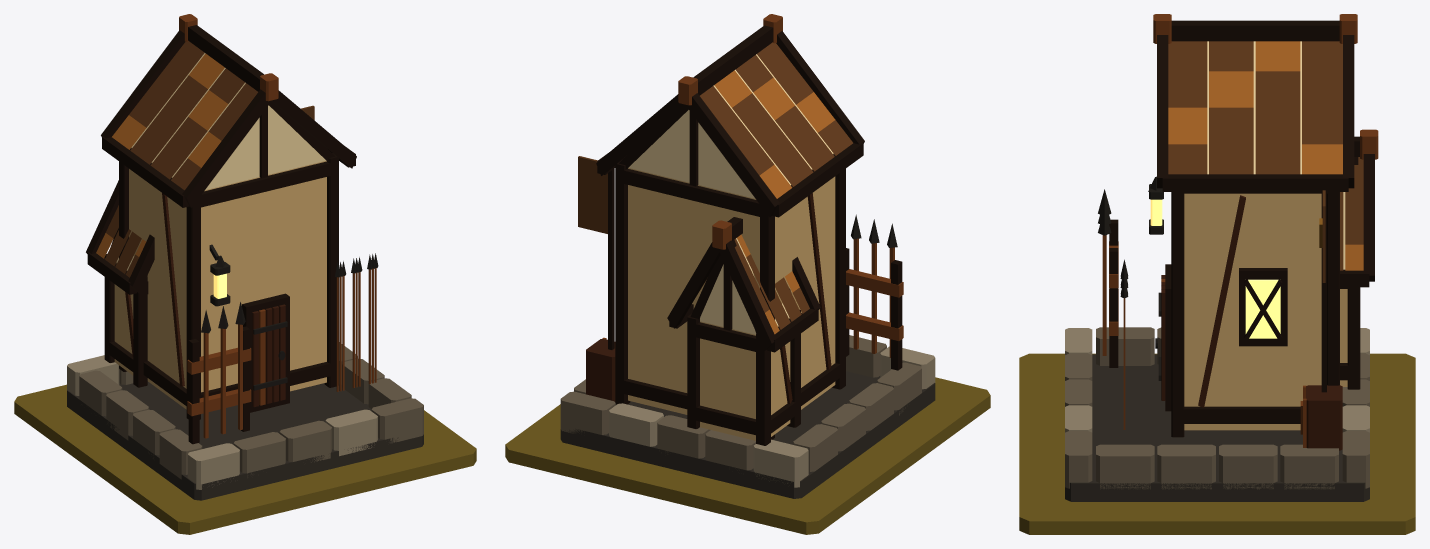
File: fletcher_t6.glb
3 views of the same model, side by side, from view 1: azimuth 30°, elevation 25°; view 2: azimuth 150°, elevation 25°; view 3: azimuth 270°, elevation 25° (orthographic). The views are drawn at different scales.
Parts seen in each view (by area): view 1: MMR | fletcher | T06 Architecture.001, MMR | fletcher | Tier 06 Ground.001; view 2: MMR | fletcher | T06 Architecture.001, MMR | fletcher | Tier 06 Ground.001, MMR | fletcher | T06 Banner Flag 1.001; view 3: MMR | fletcher | T06 Architecture.001, MMR | fletcher | Tier 06 Ground.001.
Boxes of the visible parts, x1=… form: MMR | fletcher | T06 Architecture.001: x1=67, y1=14, x2=423, y2=500; MMR | fletcher | Tier 06 Ground.001: x1=14, y1=384, x2=476, y2=534; MMR | fletcher | T06 Architecture.001: x1=560, y1=14, x2=935, y2=498; MMR | fletcher | Tier 06 Ground.001: x1=505, y1=377, x2=990, y2=534; MMR | fletcher | T06 Banner Flag 1.001: x1=578, y1=156, x2=607, y2=233; MMR | fletcher | T06 Architecture.001: x1=1065, y1=14, x2=1378, y2=501; MMR | fletcher | Tier 06 Ground.001: x1=1019, y1=353, x2=1415, y2=534.
Size of the model in its own units: 1.3 by 1.57 by 1.3.
Materials: 2 (1 with a texture image).
